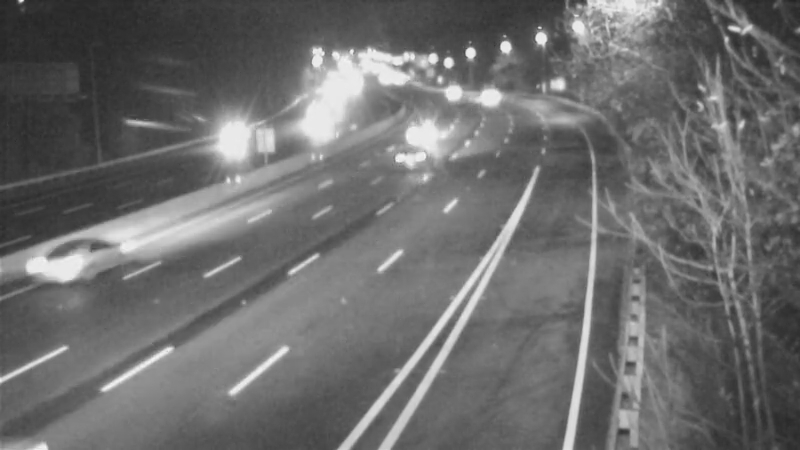vehicle: (372, 114, 452, 194), (19, 230, 99, 310), (465, 71, 515, 121), (425, 65, 475, 115), (394, 102, 444, 152), (209, 116, 259, 166), (280, 101, 330, 151)
